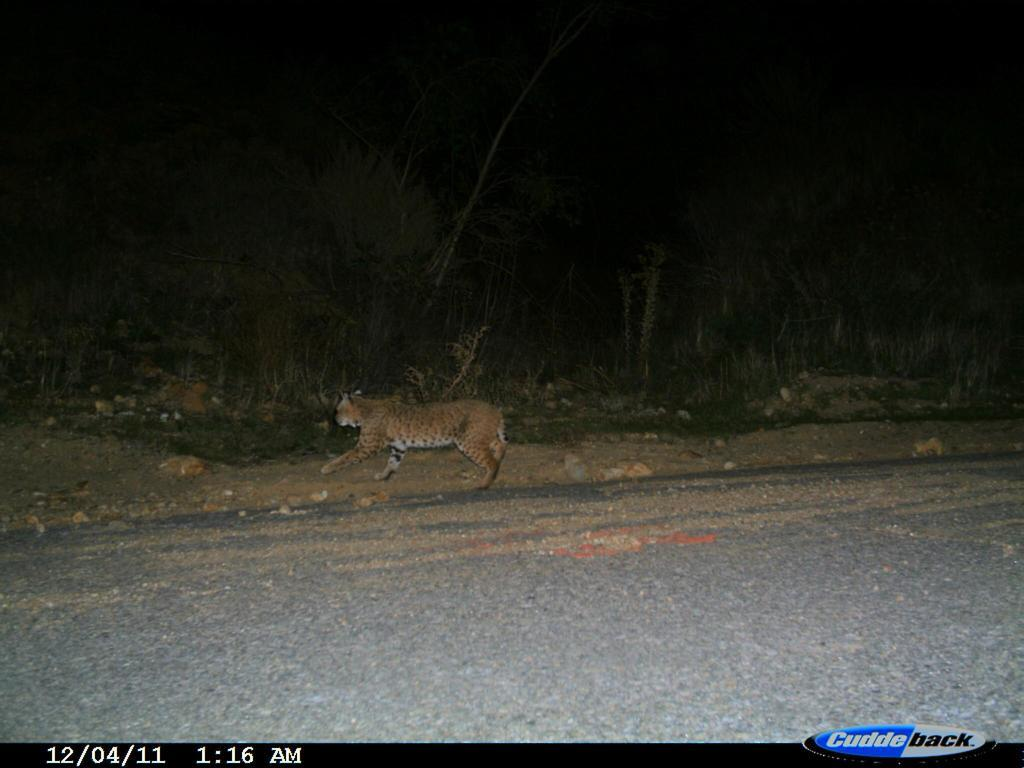bobcat: (319, 379, 521, 498)
